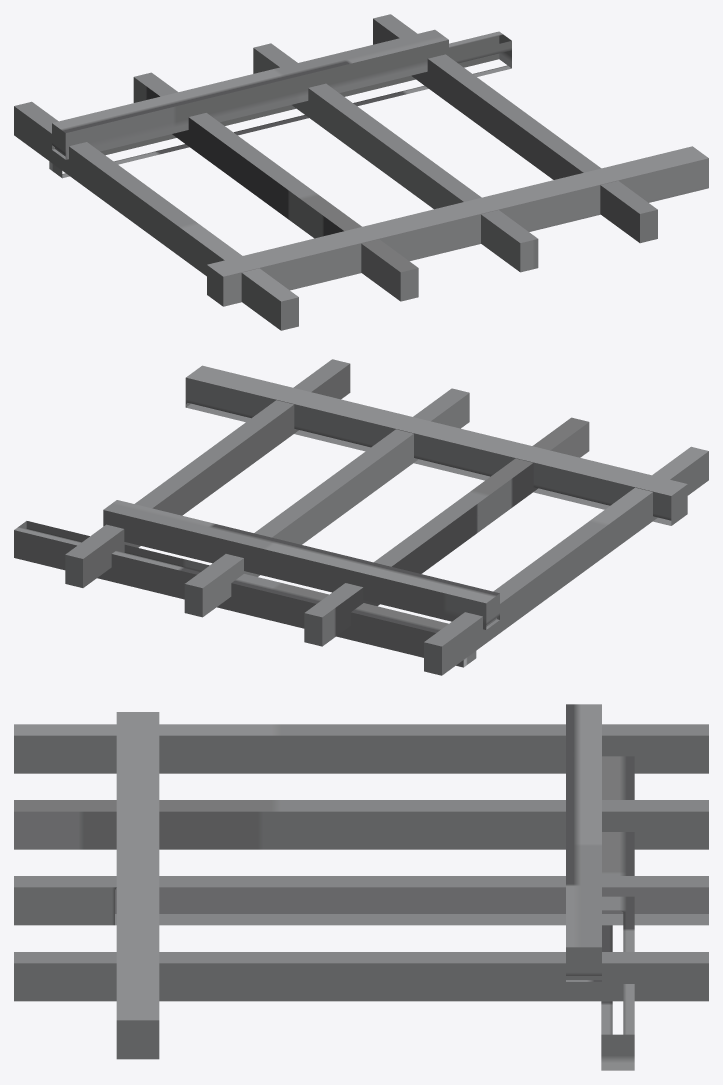
3 views of the same model, one above another, from view 1: azimuth 30°, elevation 25°; view 2: azimuth 150°, elevation 25°; view 3: azimuth 270°, elevation 25° (orthographic). The views are drawn at different scales.
Size of the model in its own units: 1.01 by 0.1141 by 0.9609.
